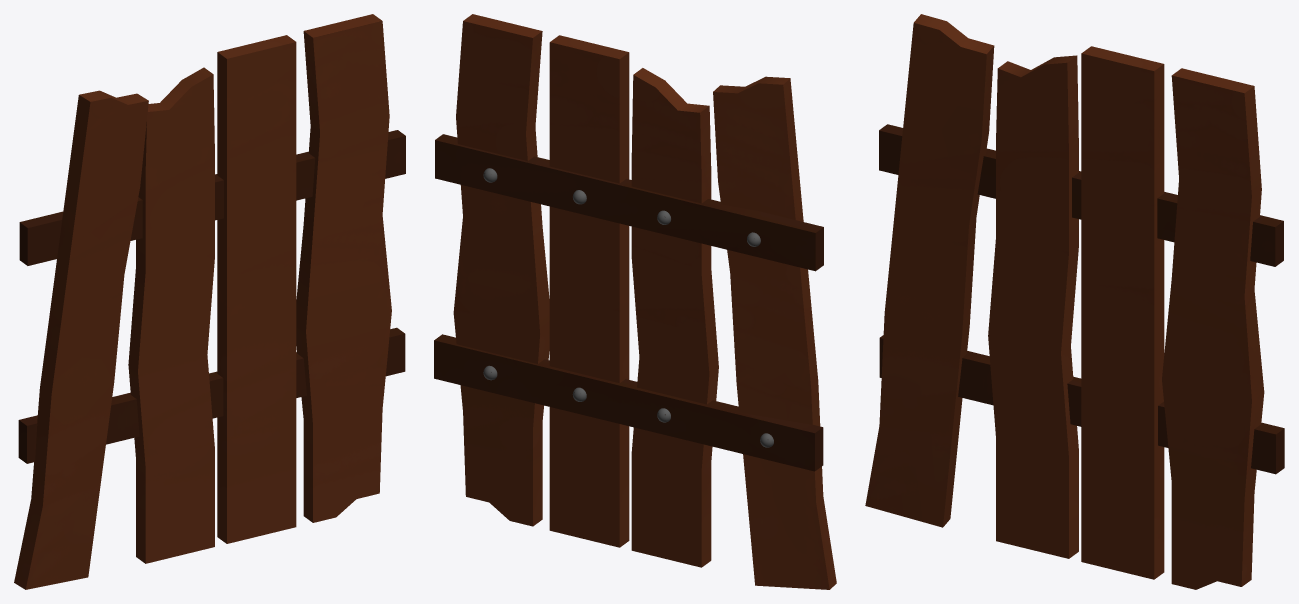
The model's file is valla_madera.obj.
3 renders of one model, left to right at view 1: azimuth 30°, elevation 25°; view 2: azimuth 150°, elevation 25°; view 3: azimuth 330°, elevation 25°, orthographic. The views are drawn at different scales.
Parts seen in each view (by area): view 1: pCube7; view 2: pCube7; view 3: pCube7.
Boxes of the visible parts, <box> form: pCube7: <box>14,14,405,589</box>; pCube7: <box>434,14,836,589</box>; pCube7: <box>865,14,1284,589</box>.
Bounding box in the file's own units: 4.96 × 5.99 × 0.6065.
1 material, 1 textured.
